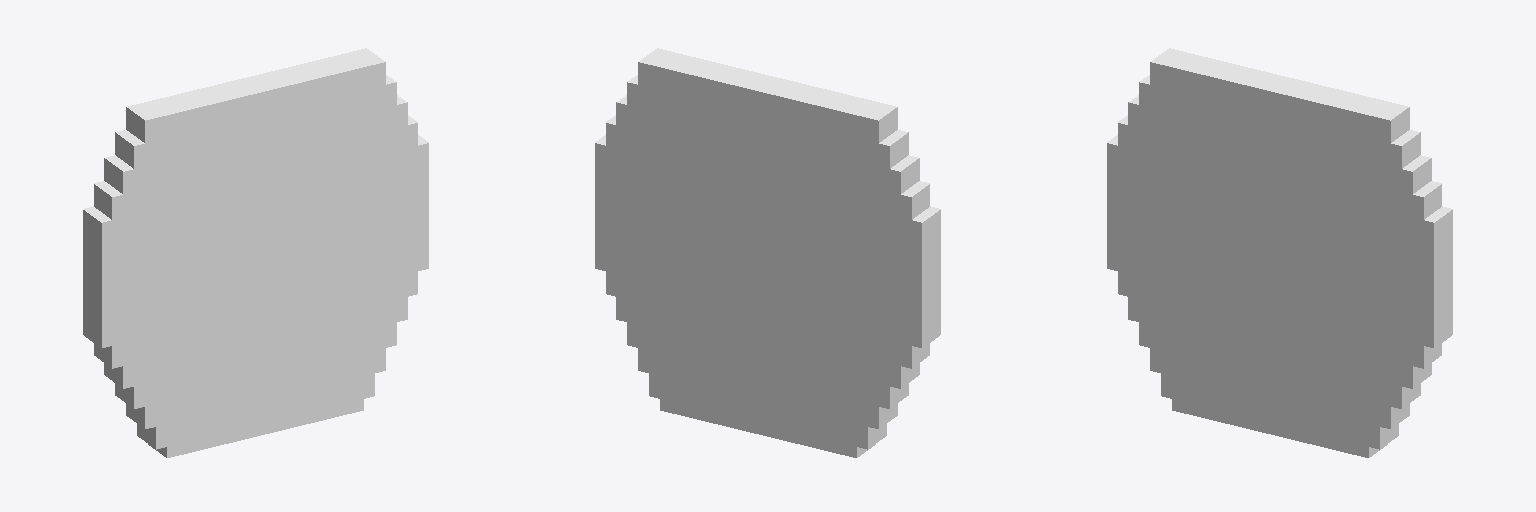
The model's file is underpants_man.obj.
3 renders of one model, left to right at view 1: azimuth 30°, elevation 25°; view 2: azimuth 150°, elevation 25°; view 3: azimuth 330°, elevation 25°, orthographic.
Parts seen in each view (by area): view 1: object 1; view 2: object 1; view 3: object 1.
Part boxes in pixels (left/top/right/bottom): object 1: left=83, top=48, right=428, bottom=457; object 1: left=595, top=48, right=940, bottom=457; object 1: left=1107, top=48, right=1452, bottom=457.
Size of the model in its own units: 3 by 3 by 0.3.